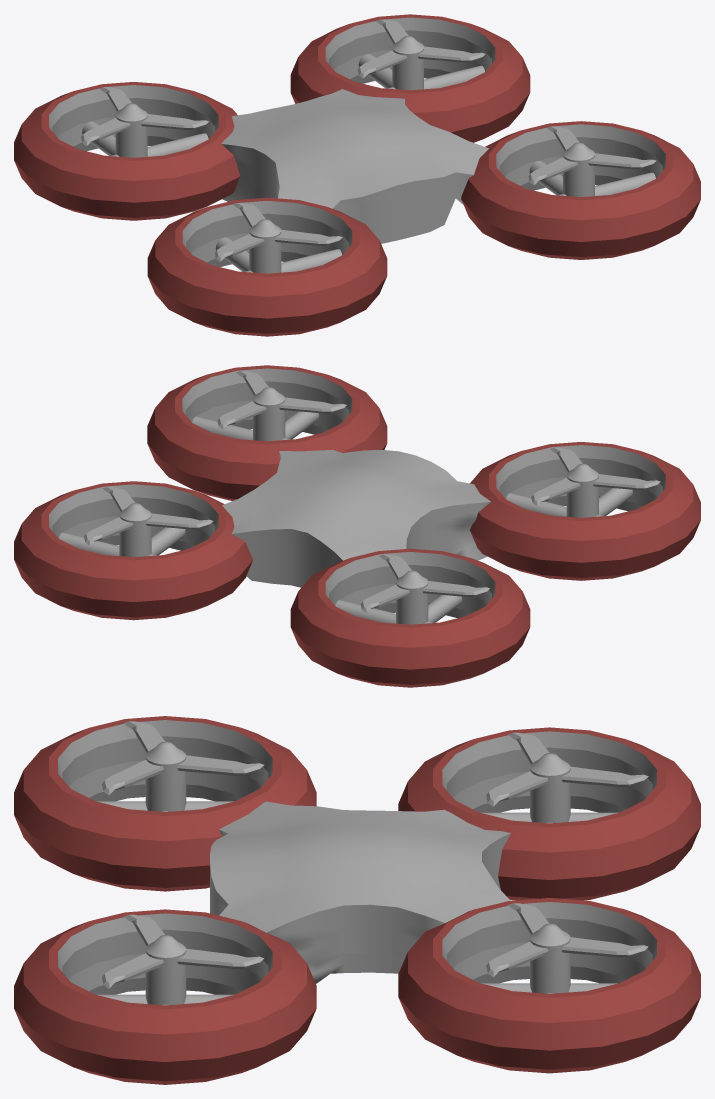
Rendered from LightDrone.fbx.
3 renders of one model, top to bottom at view 1: azimuth 30°, elevation 25°; view 2: azimuth 150°, elevation 25°; view 3: azimuth 270°, elevation 25°, orthographic. The views are drawn at different scales.
Visible parts, largest first — view 1: pTorus4 (×4), DroneBody, pCylinder2 (×4), pCylinder3 (×4), pCube18 (×4), pCube4657 (×4); view 2: pTorus4 (×4), DroneBody, pCylinder2 (×4), pCube4657 (×4), pCylinder3 (×4), pCube4656 (×4), pCylinder4 (×4); view 3: pTorus4 (×4), DroneBody, pCylinder2 (×4), pCube4656 (×4), pCube18 (×4), pCube4657 (×4), pCylinder4 (×4).
Part boxes in pixels (x1,y1,x2,y2): pTorus4 (×4): [14, 14, 700, 336]; DroneBody: [221, 89, 488, 243]; pCylinder2 (×4): [115, 36, 594, 273]; pCylinder3 (×4): [111, 65, 655, 272]; pCube18 (×4): [141, 46, 656, 245]; pCube4657 (×4): [81, 50, 578, 261]; pTorus4 (×4): [14, 365, 700, 687]; DroneBody: [222, 449, 490, 587]; pCylinder2 (×4): [119, 387, 598, 624]; pCube4657 (×4): [146, 397, 660, 596]; pCylinder3 (×4): [59, 416, 603, 623]; pCube4656 (×4): [84, 401, 580, 612]; pCylinder4 (×4): [151, 411, 632, 622]; pTorus4 (×4): [14, 716, 700, 1084]; DroneBody: [210, 801, 510, 983]; pCylinder2 (×4): [145, 741, 570, 1004]; pCube4656 (×4): [177, 755, 648, 968]; pCube18 (×4): [102, 760, 548, 988]; pCube4657 (×4): [123, 721, 549, 946]; pCylinder4 (×4): [96, 801, 618, 1003].
Bounding box in the file's own units: 4.48 × 0.6701 × 4.02.
